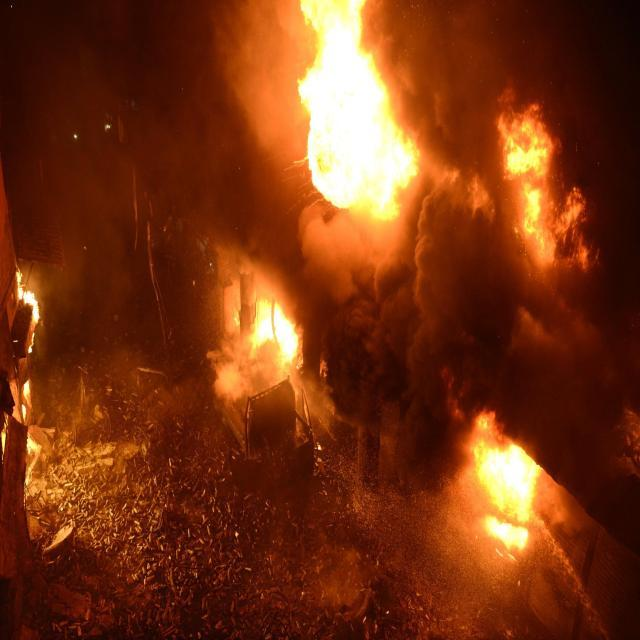Fire: (280, 0, 432, 238), (494, 78, 594, 280), (474, 440, 544, 564), (225, 287, 304, 381), (15, 262, 48, 337)
Smoke: (317, 186, 489, 386), (226, 7, 296, 202)
